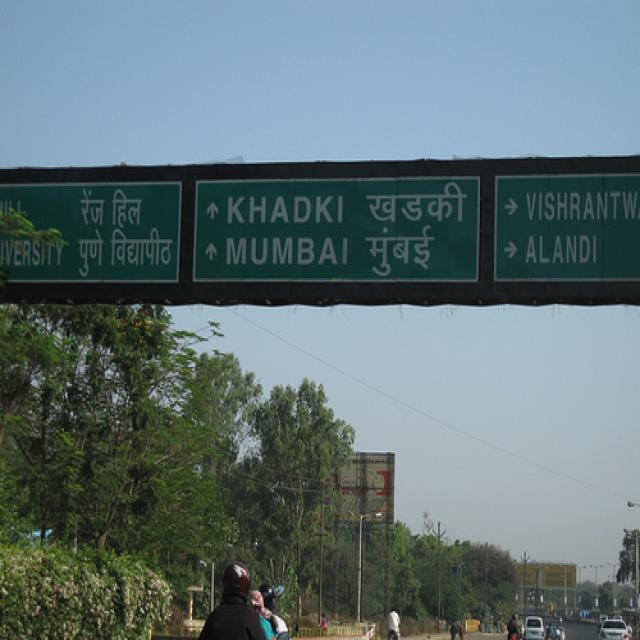motor: (506, 631, 523, 640)
